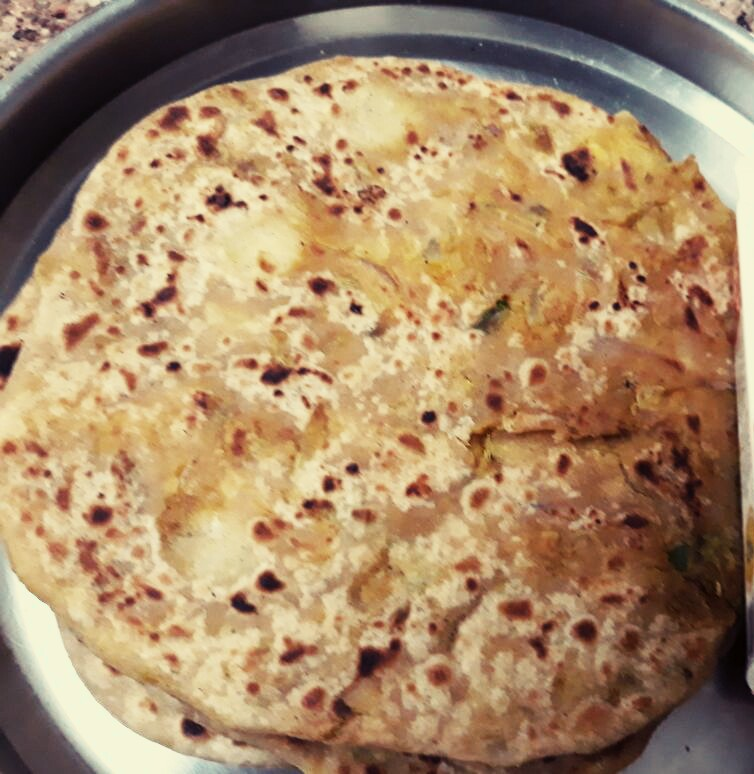aloo_paratha: (5, 58, 754, 772)
